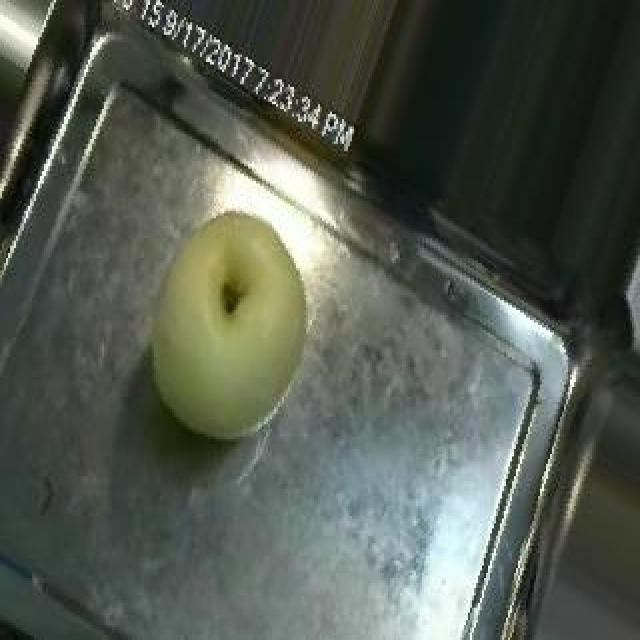apple: (130, 180, 331, 482)
